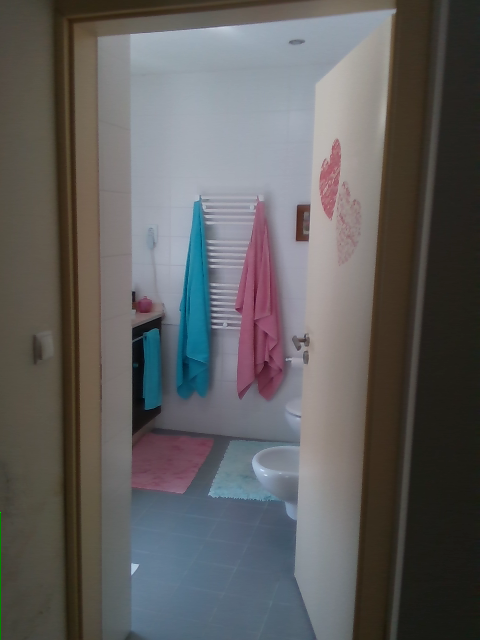open: (52, 0, 449, 639)
